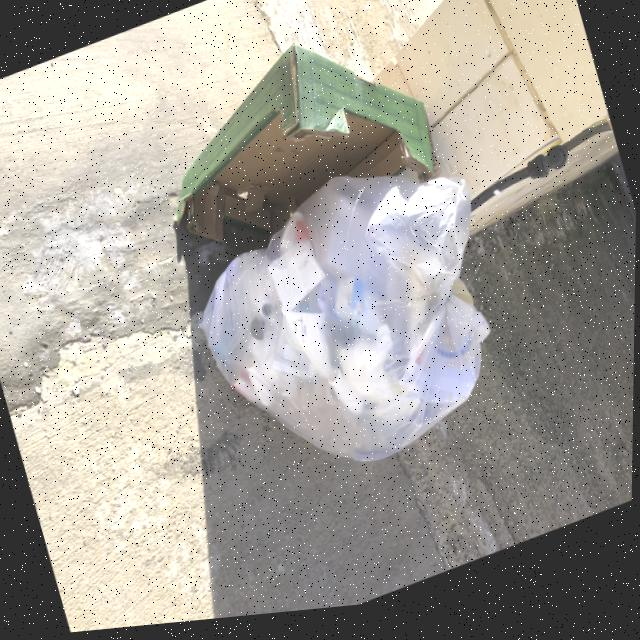Other: (139, 8, 449, 283)
Recycled Waste -Grey or Green Bag-: (172, 134, 535, 522)
